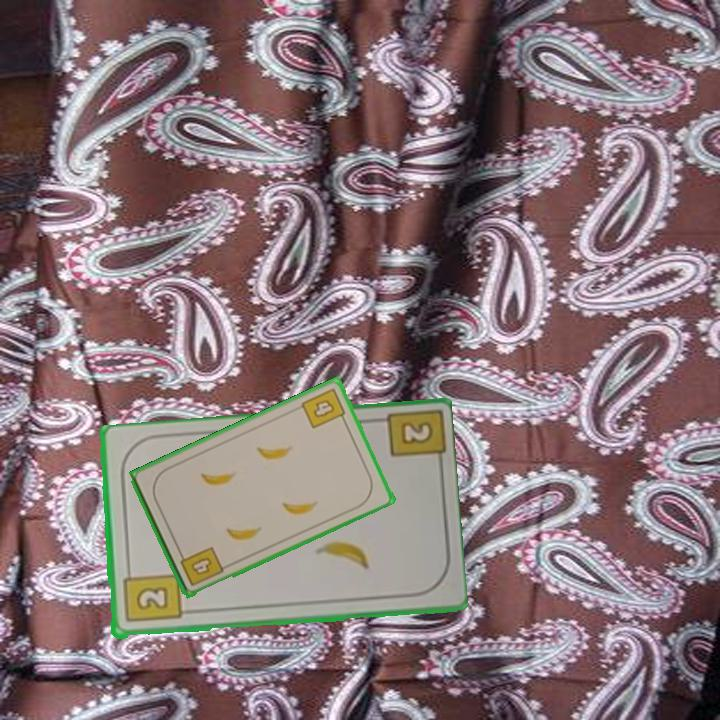2b: (119, 565, 183, 626), (396, 418, 436, 448)
4b: (298, 384, 349, 431), (176, 543, 226, 589)
